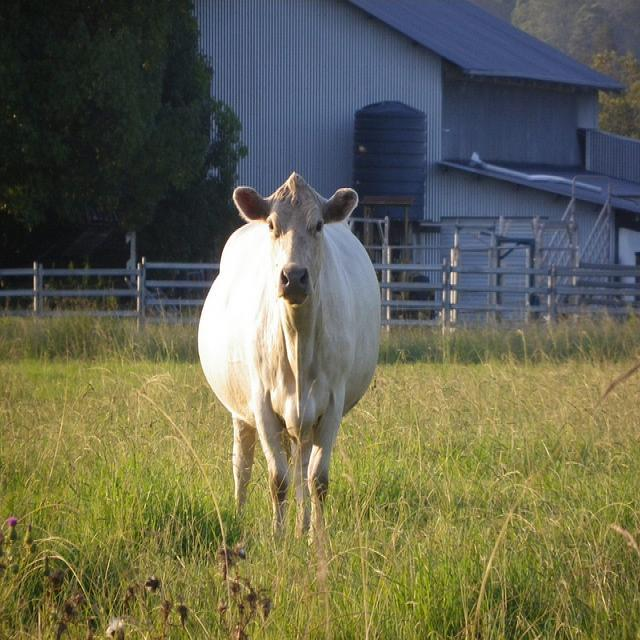cow: (193, 176, 379, 565)
